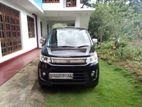car: (33, 23, 104, 94)
